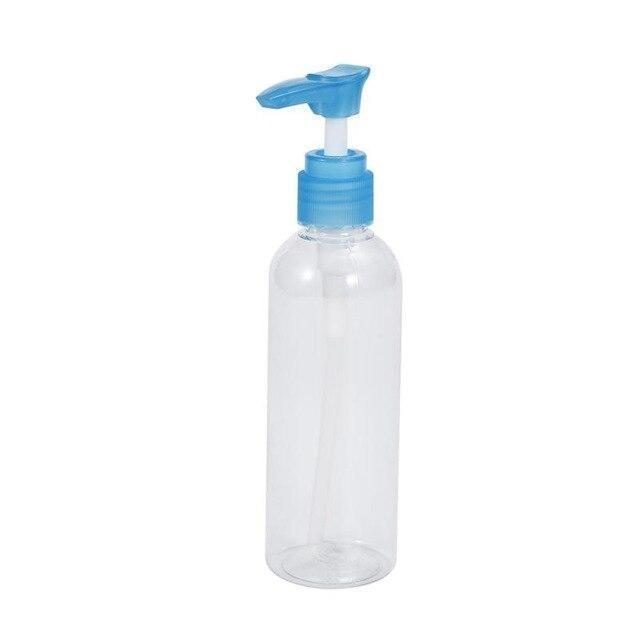Plastic: (255, 62, 396, 586)
